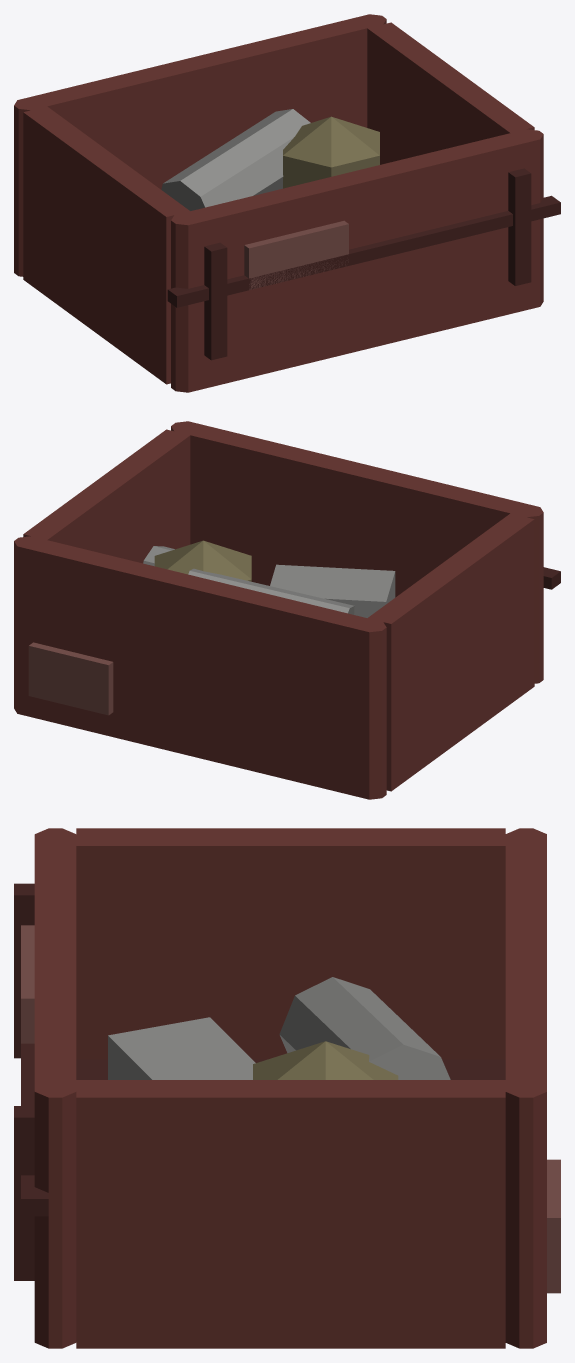
File: ancient_component_box_open.obj
The picture shows the model from 3 angles, top to bottom: view 1: azimuth 30°, elevation 25°; view 2: azimuth 150°, elevation 25°; view 3: azimuth 270°, elevation 25°; orthographic projection. The views are drawn at different scales.
Parts seen in each view (by area): view 1: ancient_component_box_open; view 2: ancient_component_box_open; view 3: ancient_component_box_open.
Boxes of the visible parts, left/top/right/bottom form: ancient_component_box_open: left=14, top=14, right=560, bottom=392; ancient_component_box_open: left=14, top=421, right=560, bottom=799; ancient_component_box_open: left=14, top=828, right=560, bottom=1348.
Size of the model in its own units: 0.96 by 0.4 by 0.79.
